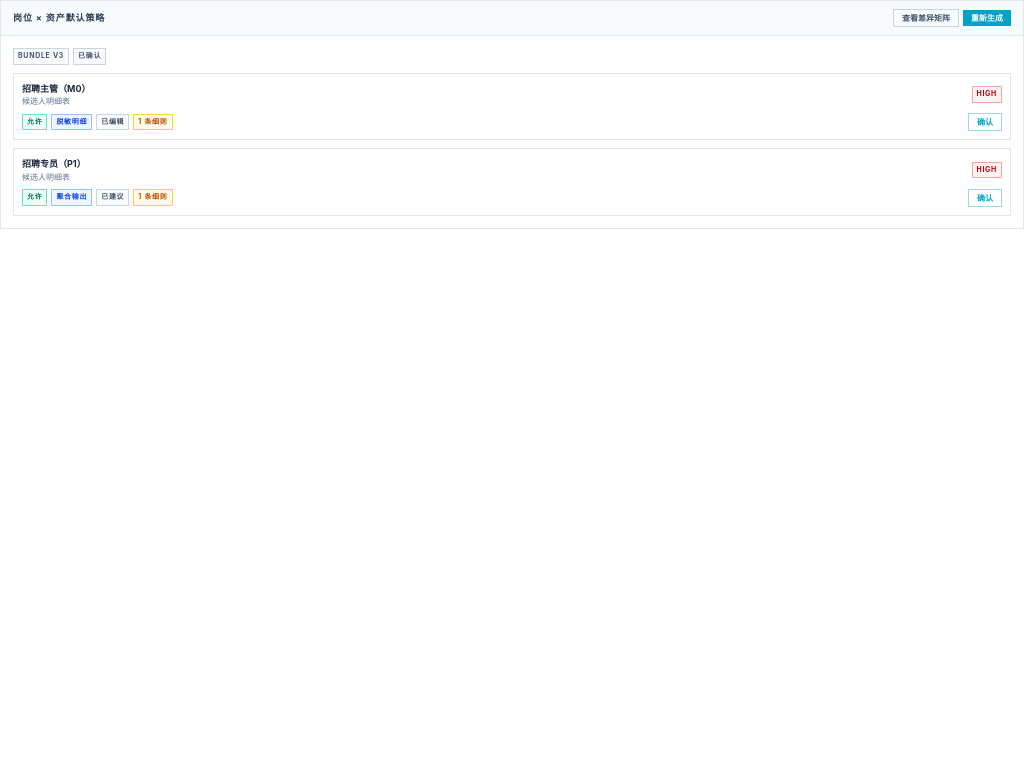
SkillGovernanceCards › RoleAssetPolicyCard opens diff drawer for cross-role comparison
Step 1. Click the button "查看差异矩阵" → {"x": 926, "y": 18}, box [893,9,959,27]
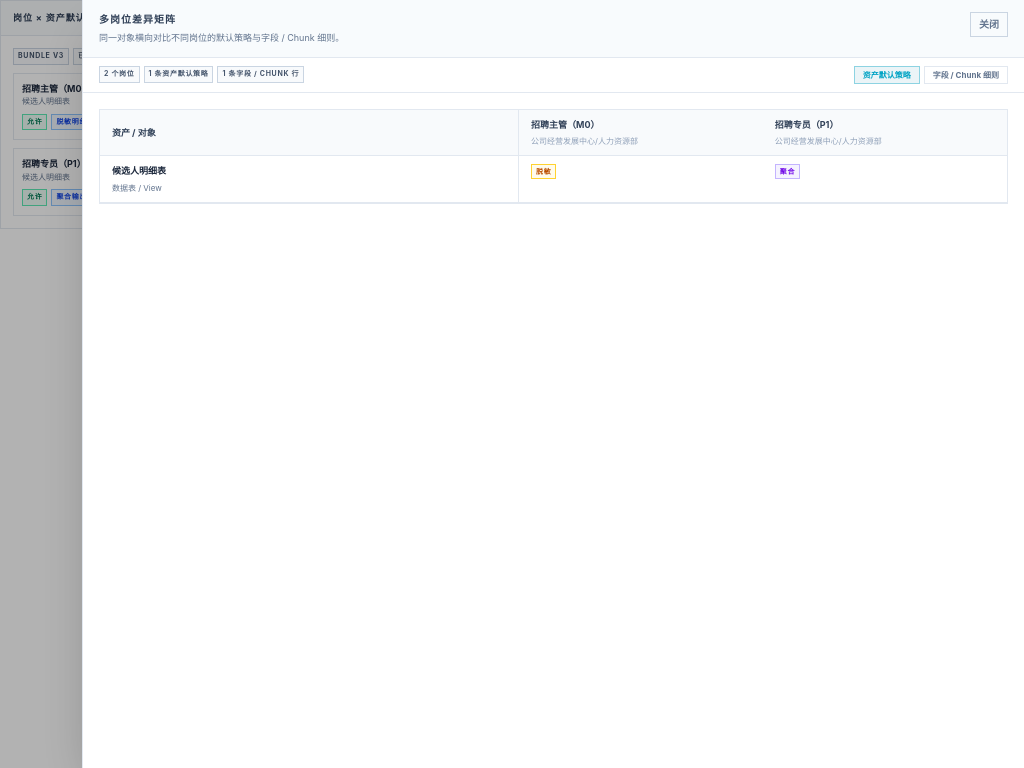
expect the text "多岗位差异矩阵" is shown: met, box [99,13,176,25]
expect the text "脱敏" is shown: met, box [531,164,556,179]
expect the text "聚合" is shown: met, box [775,164,800,179]
